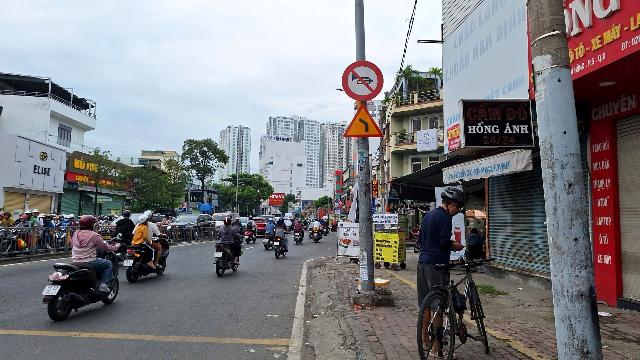cam-bop-coi: (341, 60, 384, 101)
cho-ngoat-nguy-hiem-ben-trai: (343, 103, 383, 137)
